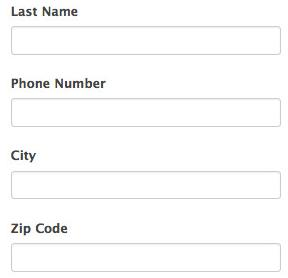field: (11, 97, 282, 128), (10, 170, 284, 200), (12, 242, 284, 272), (11, 25, 282, 55)
field_with_label: (8, 149, 287, 202), (9, 222, 286, 274), (9, 79, 284, 130), (10, 6, 283, 57)
